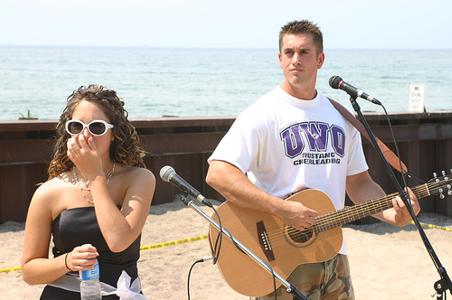person: (205, 20, 423, 300)
